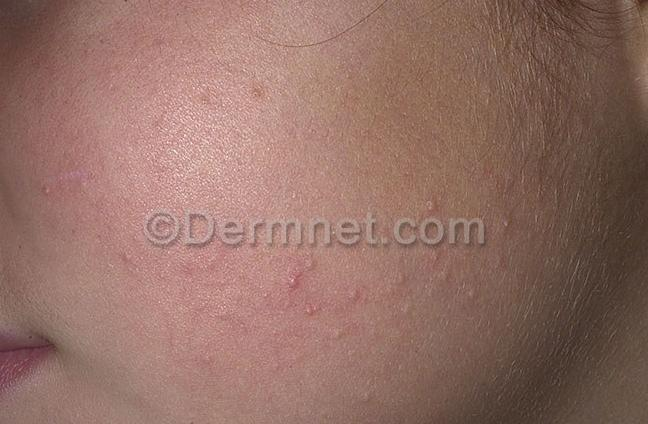edema 2: (88, 158, 544, 387)
